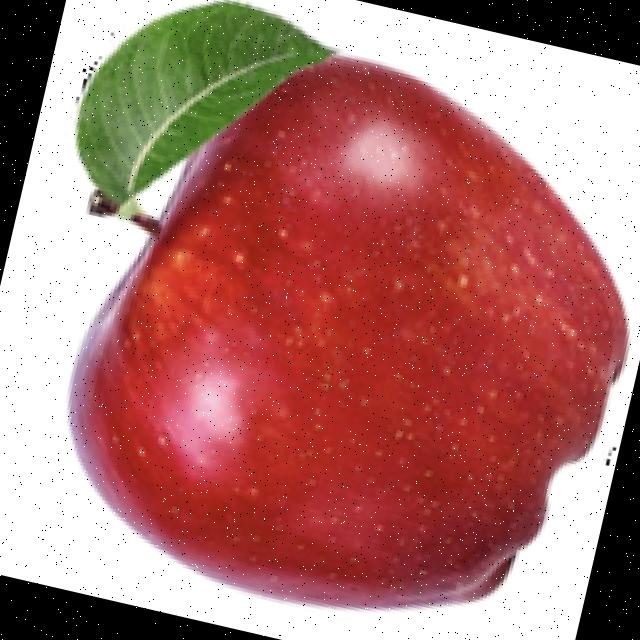apple: (61, 0, 632, 613)
